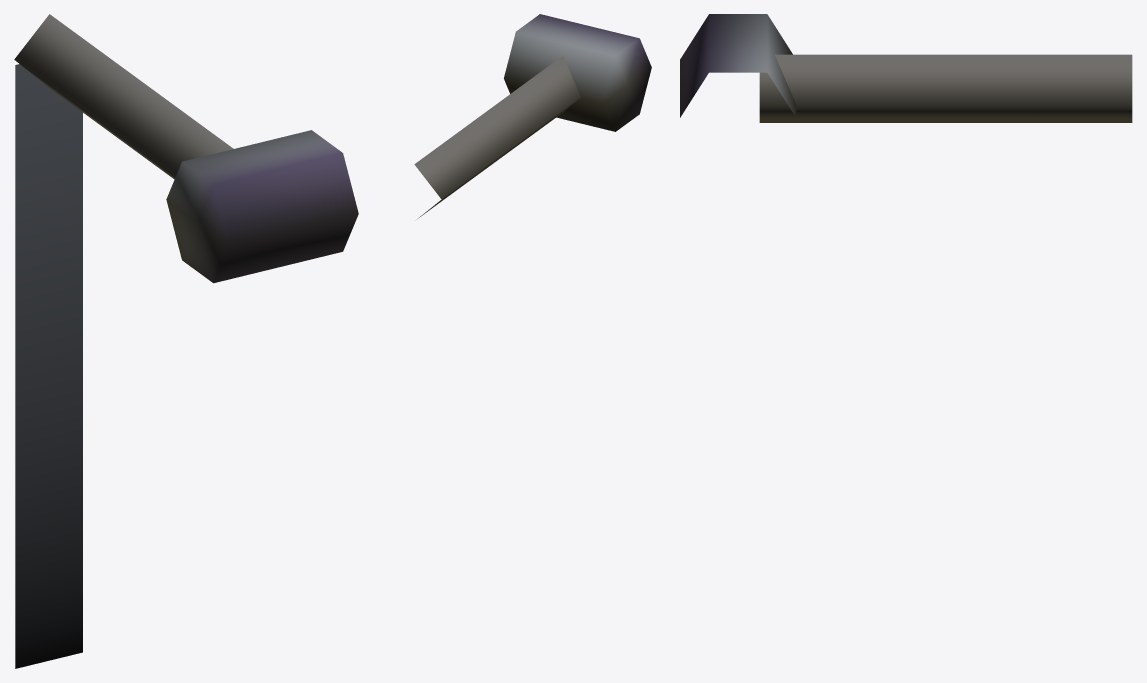
The model's file is FootholdLeft.gltf.
3 renders of one model, left to right at view 1: azimuth 30°, elevation 25°; view 2: azimuth 150°, elevation 25°; view 3: azimuth 270°, elevation 25°, orthographic. The views are drawn at different scales.
Parts seen in each view (by area): view 1: FootholdLeftMesh; view 2: FootholdLeftMesh; view 3: FootholdLeftMesh.
Boxes of the visible parts, bbox=[...] form: FootholdLeftMesh: bbox=[14, 14, 358, 668]; FootholdLeftMesh: bbox=[414, 14, 651, 218]; FootholdLeftMesh: bbox=[680, 14, 1132, 122].
Bounding box in the file's own units: 0.1986 × 0.9654 × 0.6491.
